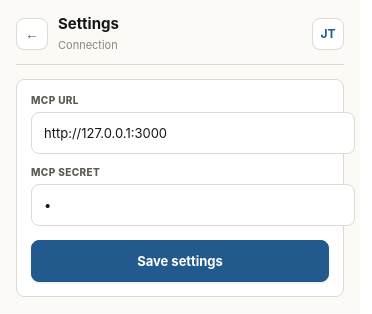
Scenario: Settings › shows "Saved ✓" confirmation after successful save
The image size is (372, 314).
Click the button "Save settings": click(180, 260) left=31, top=240, right=329, bottom=282
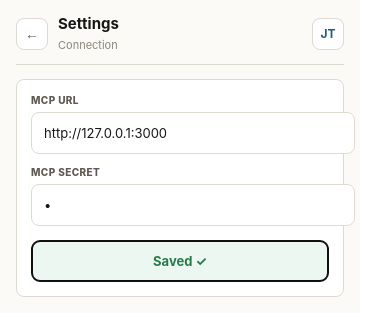
Now the button "Saved ✓" is shown, box left=31, top=240, right=329, bottom=282
